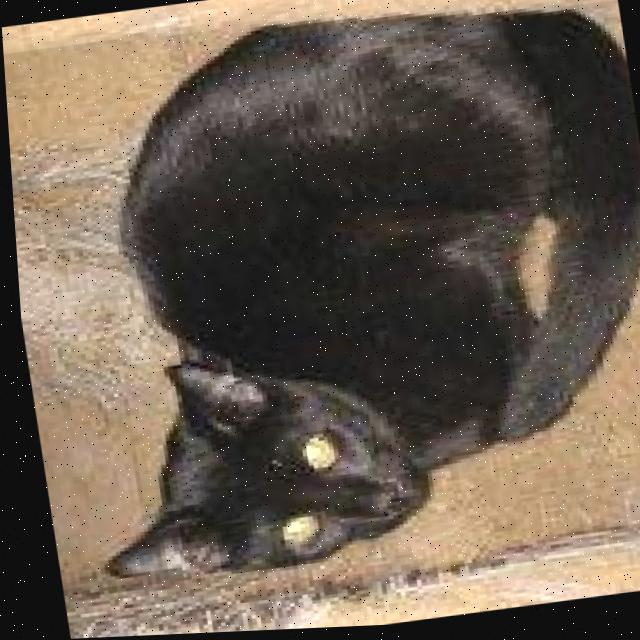Bombay: (10, 0, 640, 604)
